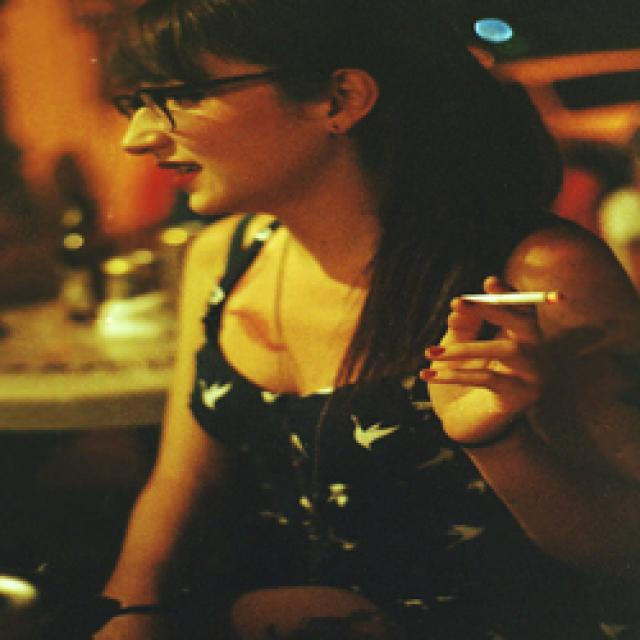Smooking: (452, 290, 568, 318)
